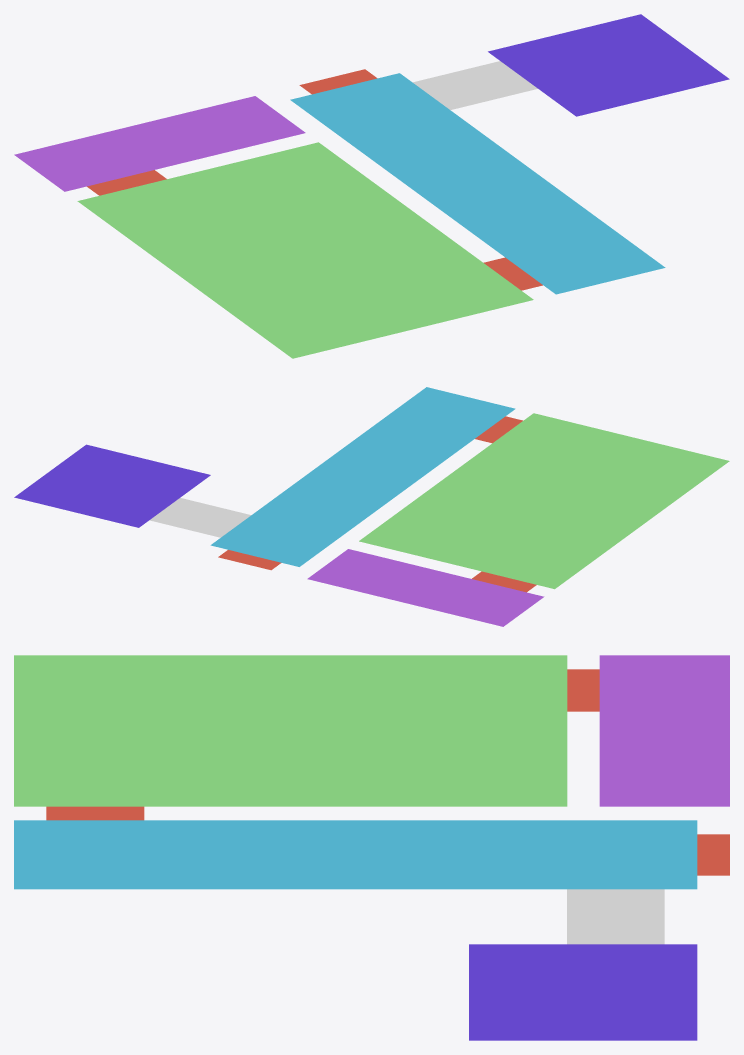
The model's file is FloorV0.fbx.
3 renders of one model, top to bottom at view 1: azimuth 30°, elevation 25°; view 2: azimuth 150°, elevation 25°; view 3: azimuth 270°, elevation 25°, orthographic. The views are drawn at different scales.
Parts seen in each view (by area): view 1: Floor; view 2: Floor; view 3: Floor.
Part boxes in pixels (box(x1,y1,x2,y2)): Floor: box(14, 14, 729, 358); Floor: box(14, 387, 729, 626); Floor: box(14, 655, 729, 1040).
Bounding box in the file's own units: 2800 × 0.000358 × 2200.
